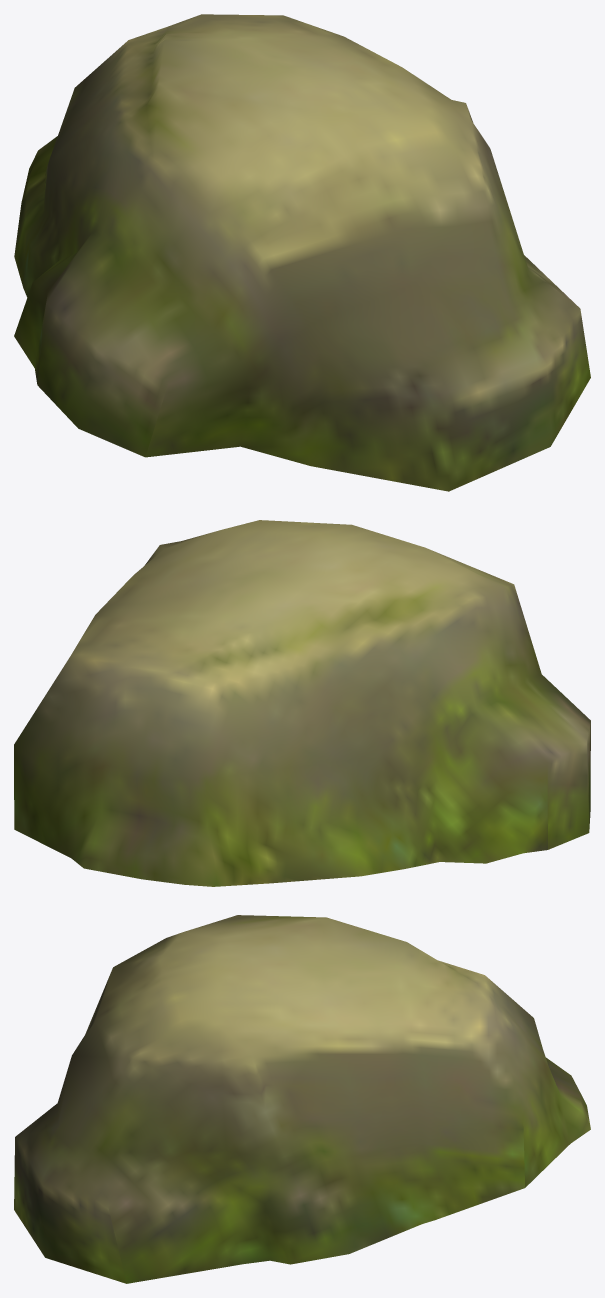
The model's file is liemo_shitou_01 (5).fbx.
The picture shows the model from 3 angles, top to bottom: view 1: azimuth 30°, elevation 25°; view 2: azimuth 150°, elevation 25°; view 3: azimuth 270°, elevation 25°; orthographic projection. The views are drawn at different scales.
Parts seen in each view (by area): view 1: liemo_shitou_01 (5); view 2: liemo_shitou_01 (5); view 3: liemo_shitou_01 (5).
Boxes of the visible parts, bbox=[...] form: liemo_shitou_01 (5): bbox=[14, 14, 590, 491]; liemo_shitou_01 (5): bbox=[14, 520, 590, 886]; liemo_shitou_01 (5): bbox=[14, 915, 590, 1283].
Size of the model in its own units: 0.1706 by 0.0998 by 0.2095.
